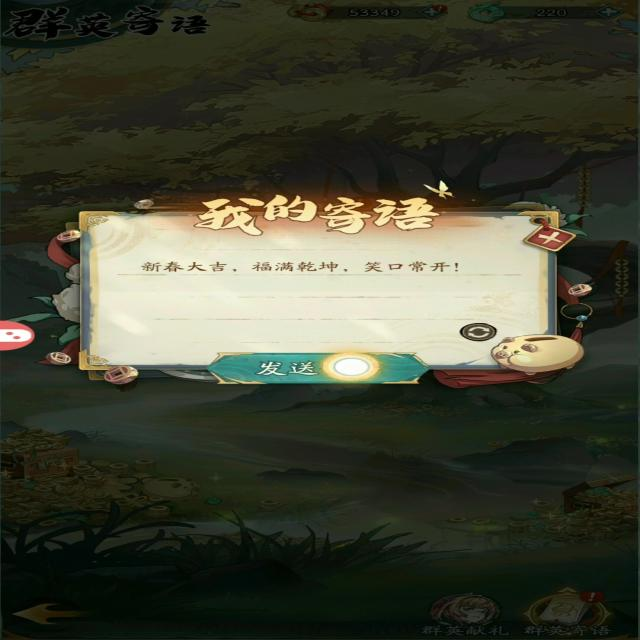operation-close: (519, 225, 565, 259)
operation-enter: (209, 345, 417, 394)
operation-randomName: (442, 318, 512, 345)
